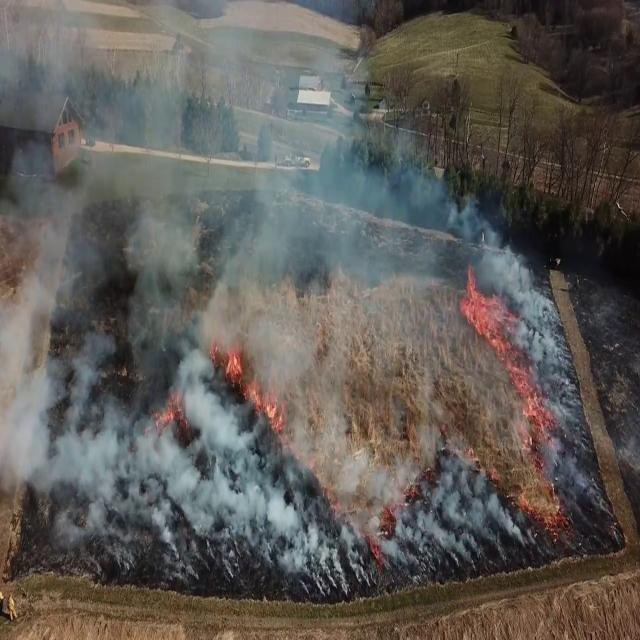Fire: (223, 342, 294, 452), (459, 259, 509, 353)
Smoke: (0, 4, 514, 586)
